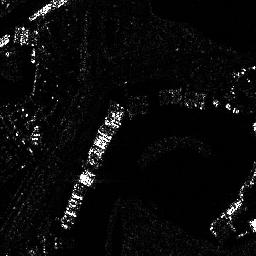ship: (29, 3, 53, 21)
